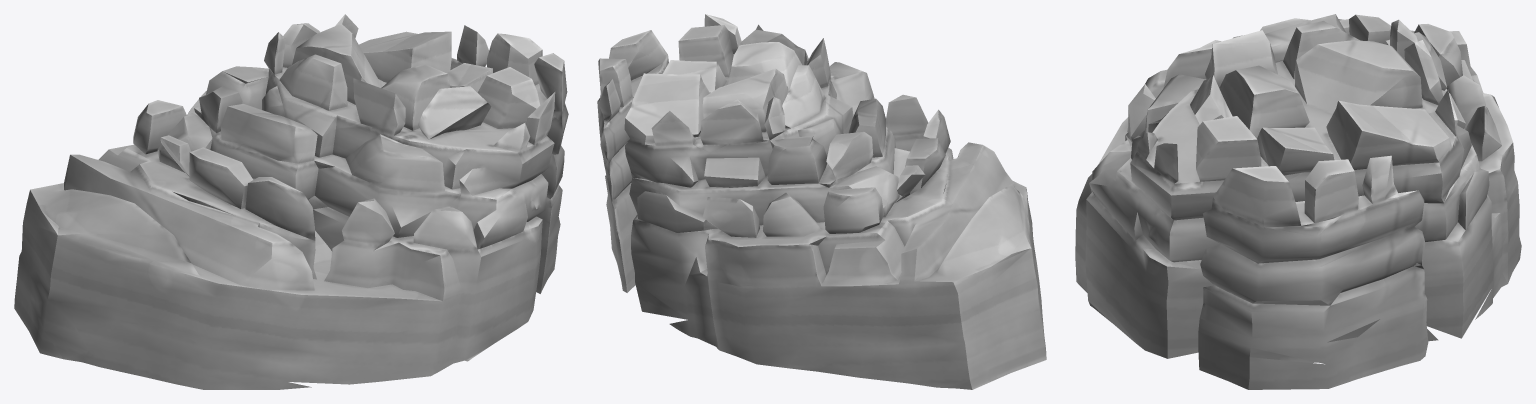
File: sculpted_outcrop_03.glb
3 renders of one model, left to right at view 1: azimuth 30°, elevation 25°; view 2: azimuth 150°, elevation 25°; view 3: azimuth 270°, elevation 25°, orthographic. The views are drawn at different scales.
Visible parts, largest first — view 1: sculpted_outcrop_03; view 2: sculpted_outcrop_03; view 3: sculpted_outcrop_03.
Boxes of the visible parts, box(x1,y1,x2,y2) form: sculpted_outcrop_03: box(14, 14, 568, 389); sculpted_outcrop_03: box(597, 14, 1046, 389); sculpted_outcrop_03: box(1075, 14, 1521, 389).
Size of the model in its own units: 11.61 by 5.36 by 8.33.
1 material, 1 textured.
